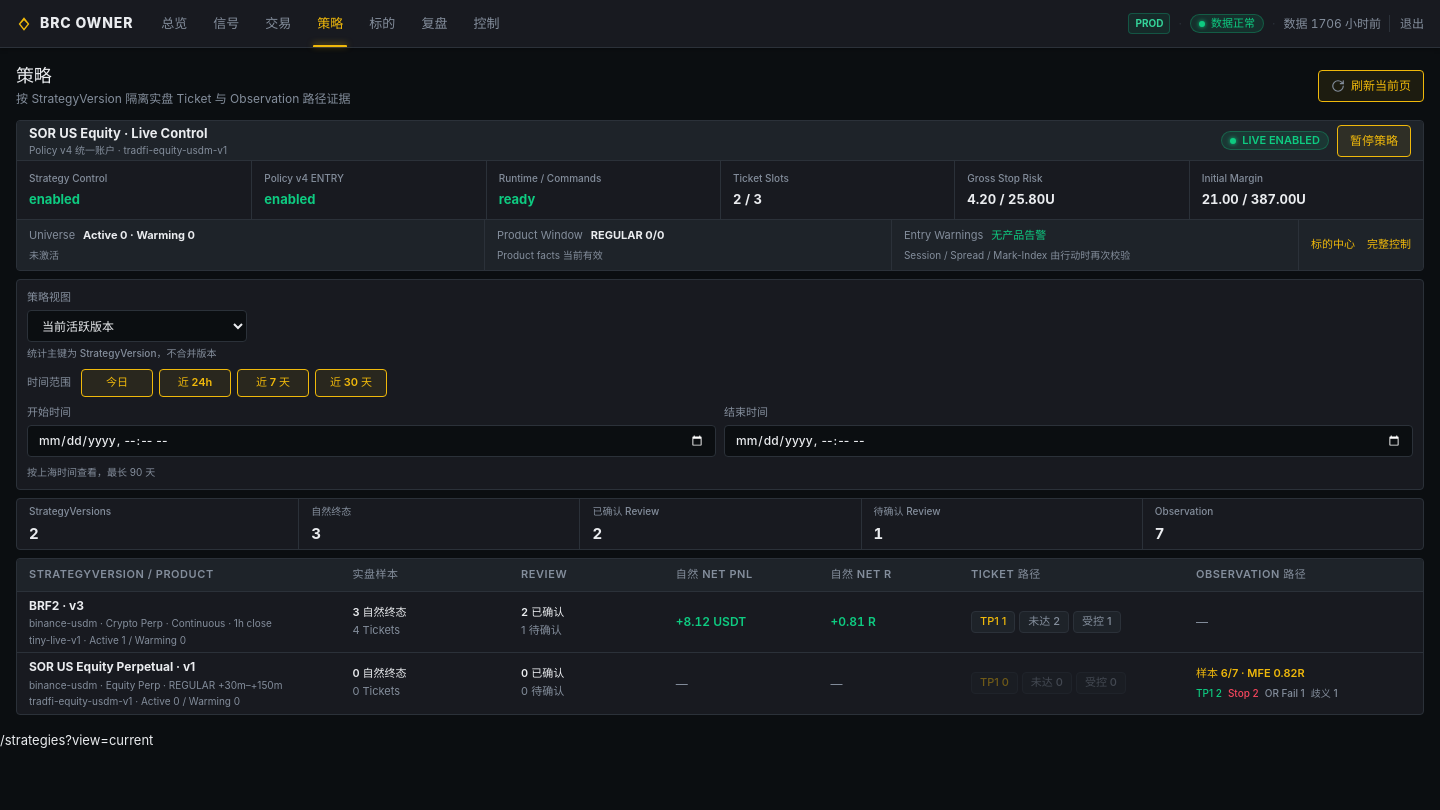
Test case: opens a URL-backed TP1 Ticket dialog and preserves strategy detail context
Expected: the text "BRF2 · v3" is shown, [29,598,84,613]
Expected: the text "binance-usdm · Crypto Perp · Continuous · 1h close" is shown, [29,617,272,629]
Click the button "TP1 1" at (993, 622), box [971,611,1015,633]
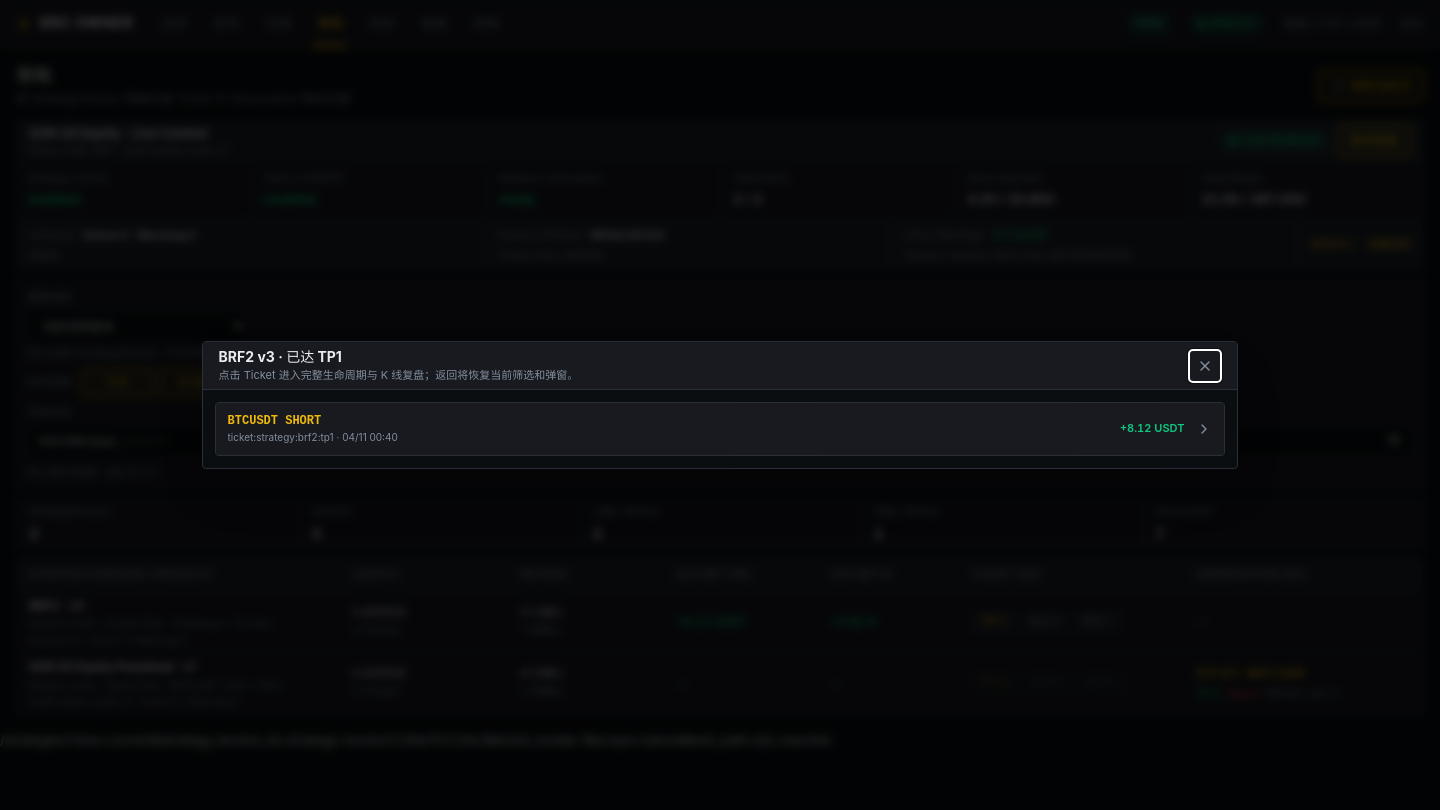
Expected: the dialog "BRF2 v3 · 已达 TP1" is shown, [202,341,1238,469]
